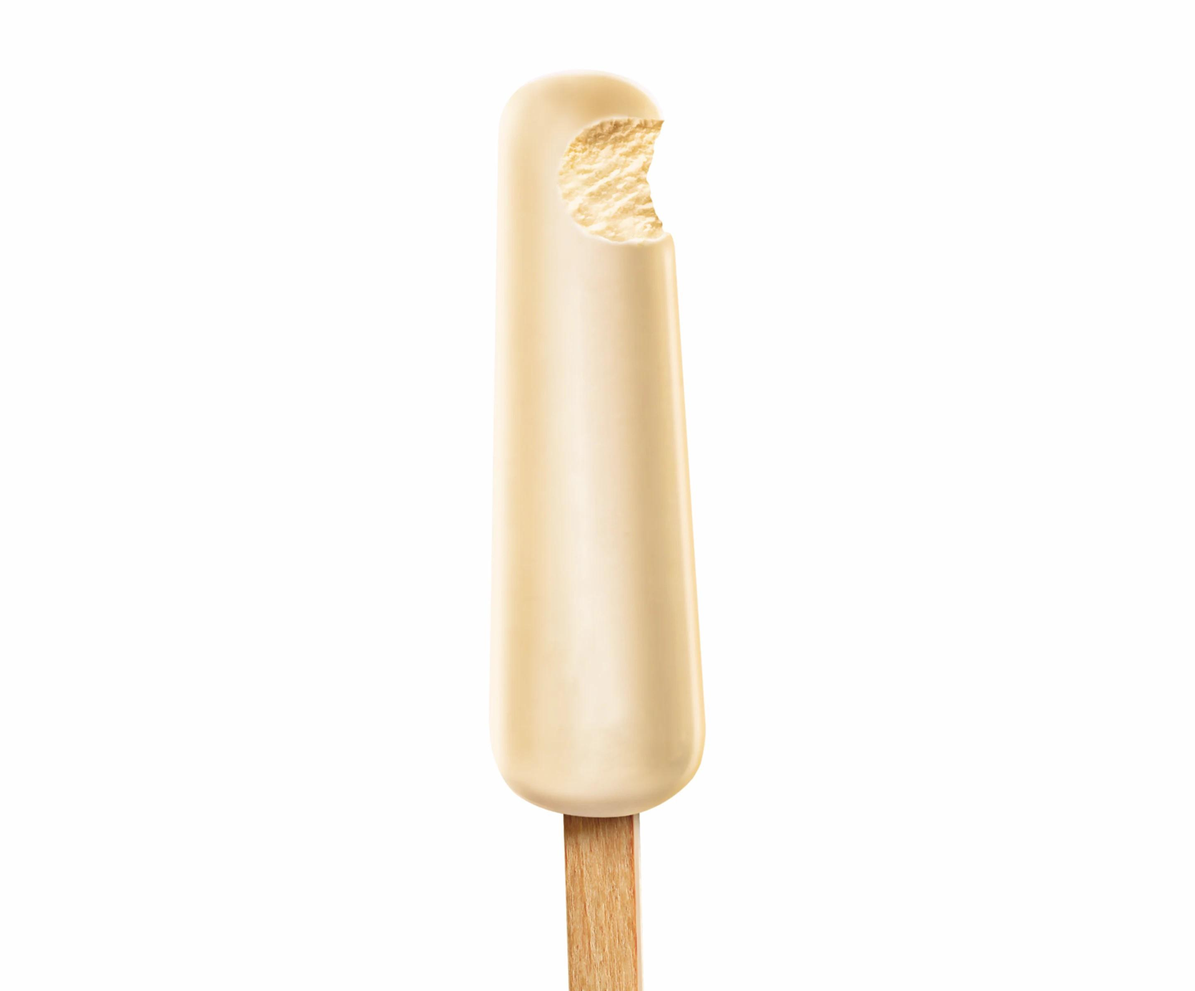Kulfi: (503, 69, 706, 818)
